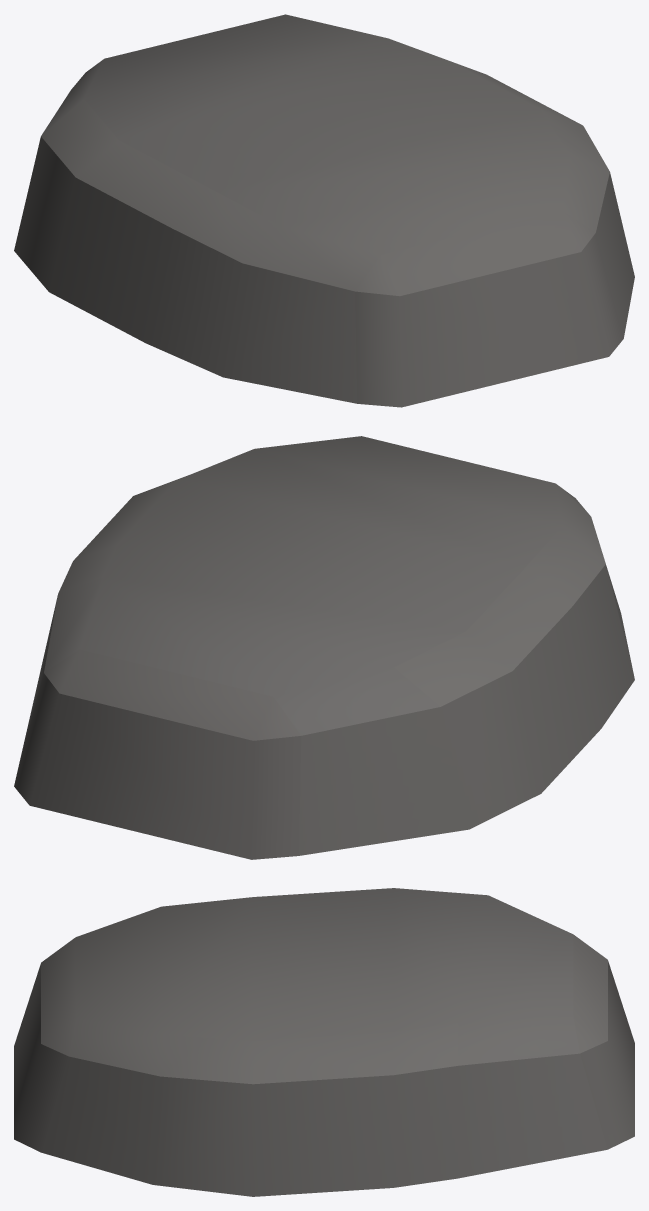
File: Brick_2_3.glb
3 views of the same model, one above another, from view 1: azimuth 30°, elevation 25°; view 2: azimuth 150°, elevation 25°; view 3: azimuth 270°, elevation 25° (orthographic). The views are drawn at different scales.
Parts seen in each view (by area): view 1: Brick_2_3; view 2: Brick_2_3; view 3: Brick_2_3.
Part boxes in pixels (box(x1,y1,x2,y2)): Brick_2_3: box(14, 14, 634, 407); Brick_2_3: box(14, 436, 634, 859); Brick_2_3: box(14, 888, 634, 1196).
Size of the model in its own units: 0.2486 by 0.0674 by 0.3014.
Materials: 1 (1 with a texture image).
